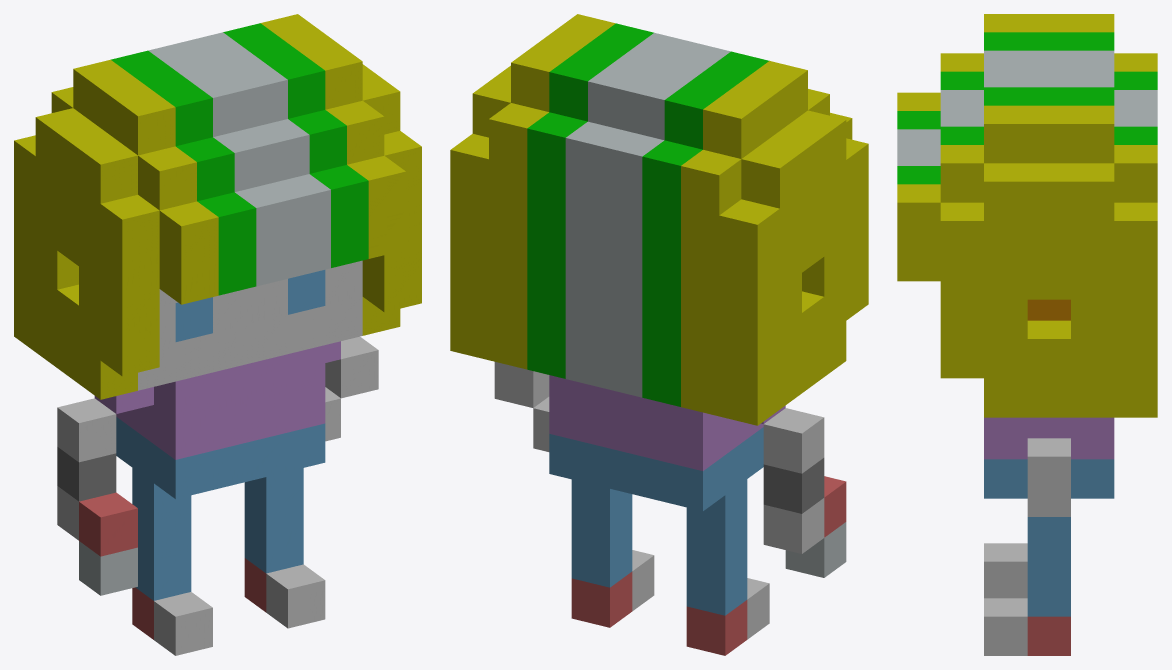
The picture shows the model from 3 angles, left to right: view 1: azimuth 30°, elevation 25°; view 2: azimuth 150°, elevation 25°; view 3: azimuth 270°, elevation 25°; orthographic projection. The views are drawn at different scales.
Visible parts, largest first — view 1: Geode; view 2: Geode; view 3: Geode.
Part boxes in pixels (x1=…): Geode: x1=14, y1=14, x2=421, y2=655; Geode: x1=450, y1=14, x2=868, y2=655; Geode: x1=897, y1=14, x2=1157, y2=655.
Bounding box in the file's own units: 8 × 14 × 6.
